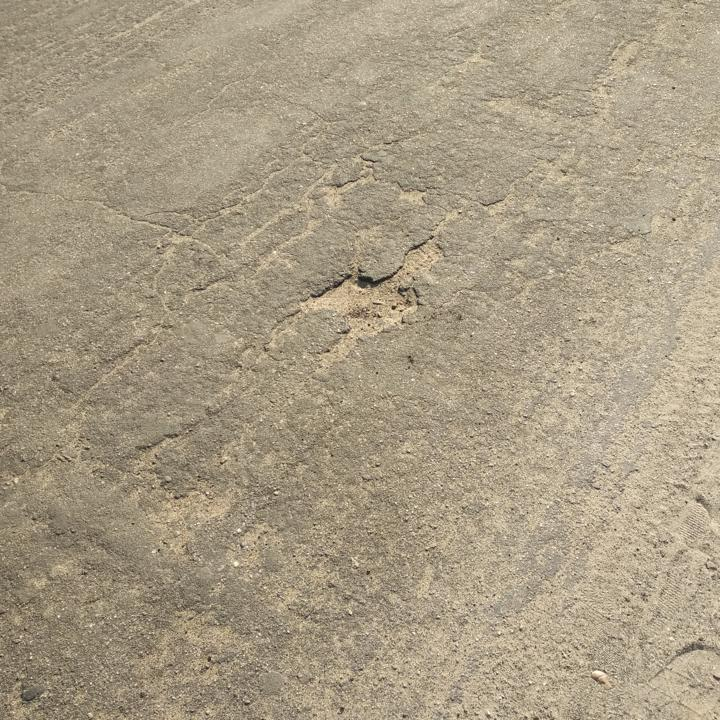pothole: (295, 270, 426, 340), (401, 236, 449, 271)
